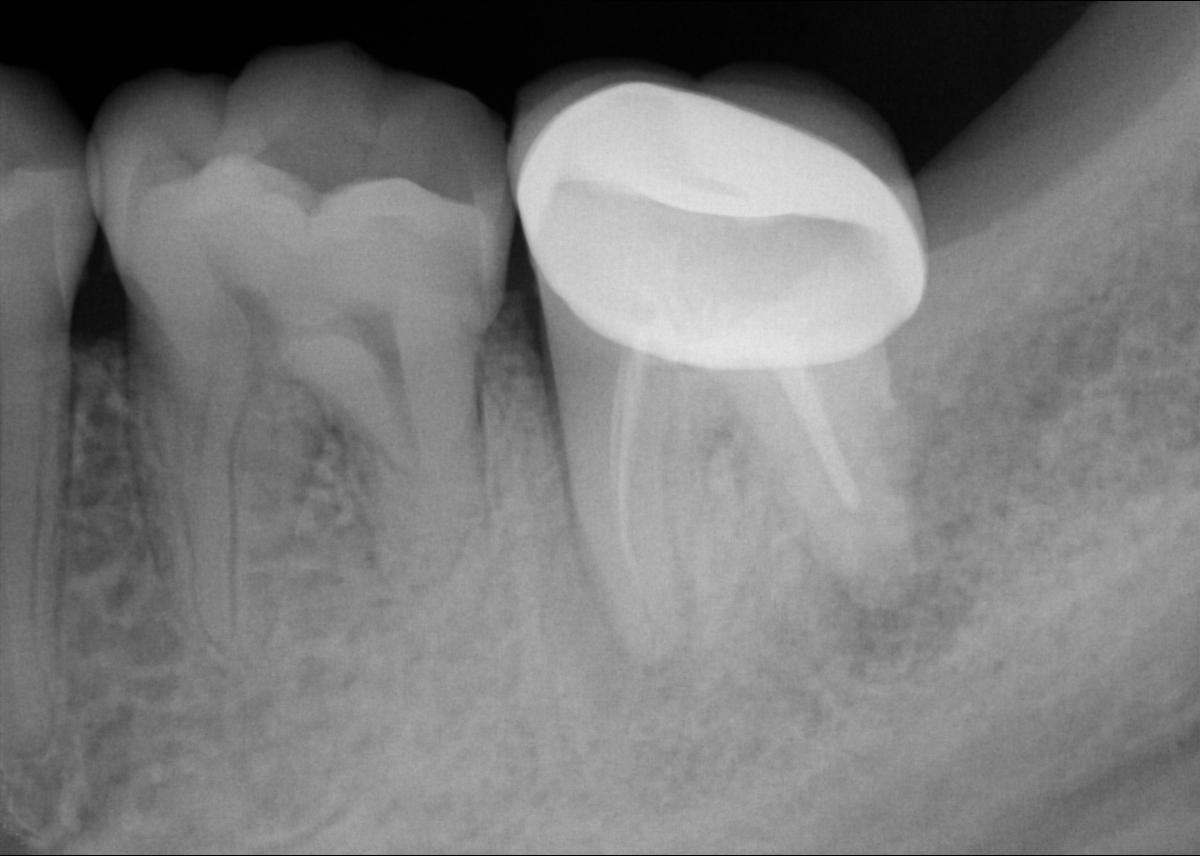Furcation Involvement: (827, 573, 973, 681)
